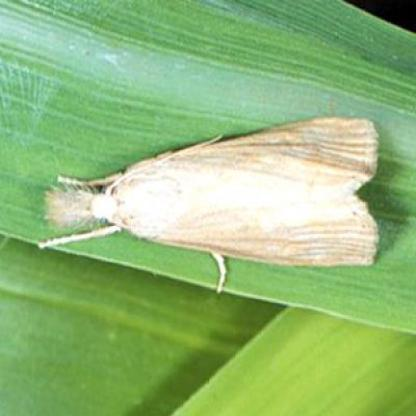stem-borer: (36, 116, 382, 296)
